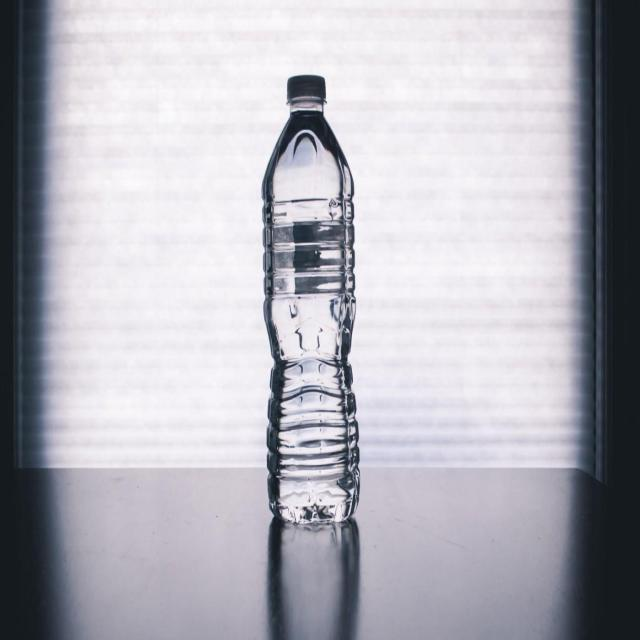bottle: (250, 60, 367, 541)
